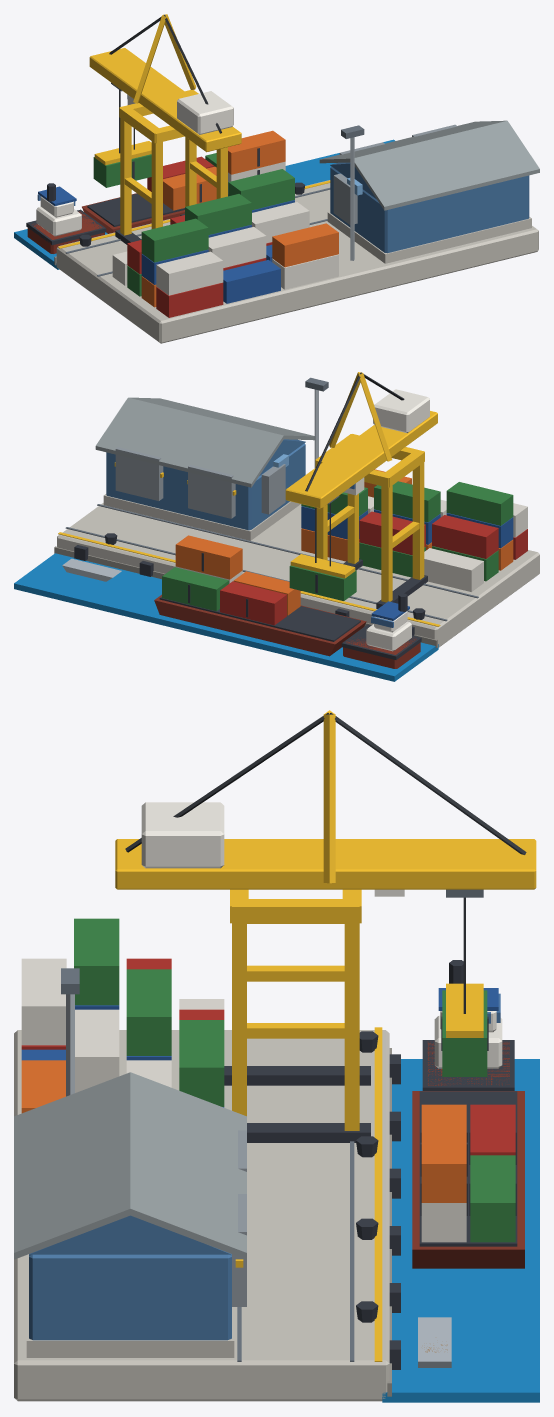
File: porto.glb
3 renders of one model, top to bottom at view 1: azimuth 30°, elevation 25°; view 2: azimuth 150°, elevation 25°; view 3: azimuth 270°, elevation 25°, orthographic. The views are drawn at different scales.
Visible parts, largest first — view 1: corpo; view 2: corpo; view 3: corpo.
Boxes of the visible parts, left/top/right/bottom form: corpo: left=14, top=14, right=539, bottom=343; corpo: left=14, top=372, right=539, bottom=681; corpo: left=14, top=710, right=539, bottom=1402.
Bounding box in the file's own units: 2.11 × 1.29 × 1.4.
